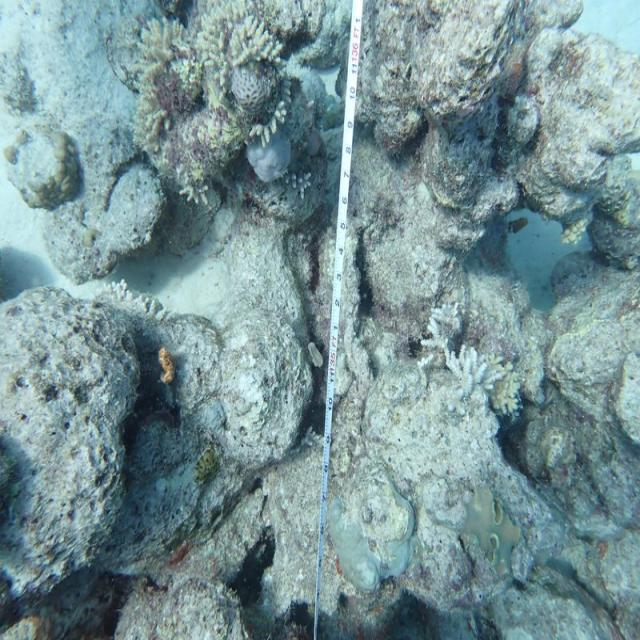Bleached Coral: (412, 296, 518, 426), (87, 271, 172, 327)
